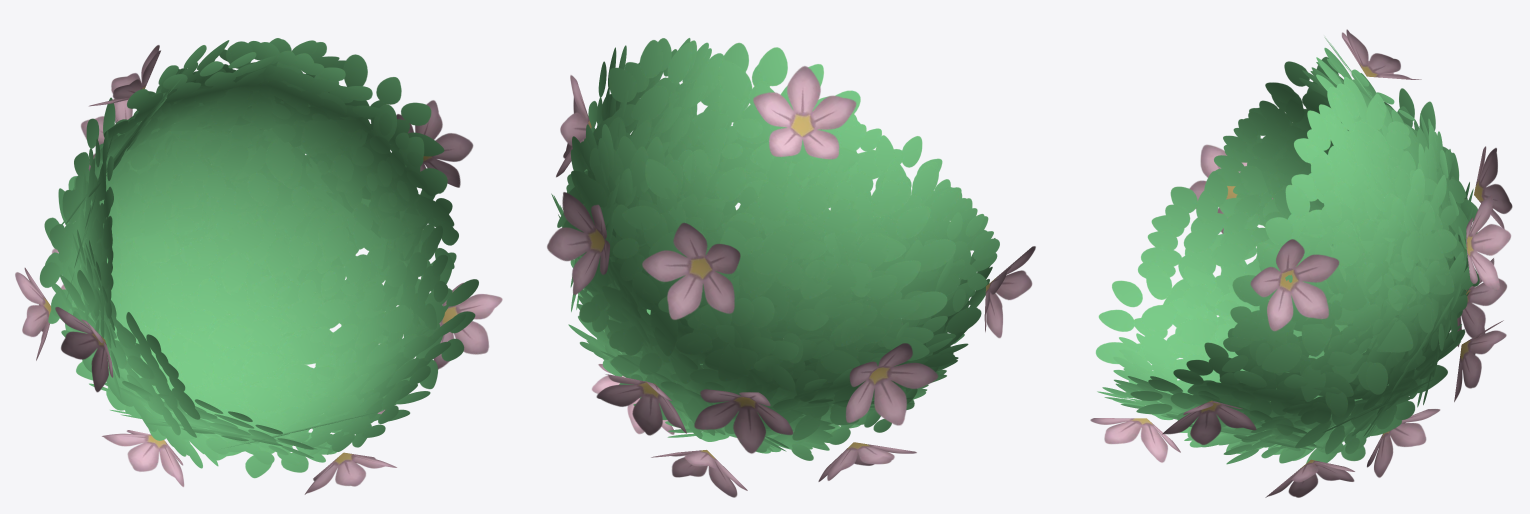
File: qn_bush.glb
The picture shows the model from 3 angles, left to right: view 1: azimuth 30°, elevation 25°; view 2: azimuth 150°, elevation 25°; view 3: azimuth 270°, elevation 25°; orthographic projection. The views are drawn at different scales.
Visible parts, largest first — view 1: Bush_Flowers.001; view 2: Bush_Flowers.001; view 3: Bush_Flowers.001.
Part boxes in pixels (box(x1,y1,x2,y2)): Bush_Flowers.001: box(15, 38, 502, 494); Bush_Flowers.001: box(547, 38, 1035, 497); Bush_Flowers.001: box(1090, 29, 1512, 497).
Bounding box in the file's own units: 1.12 × 1.12 × 1.03.
2 materials, 2 textured.
